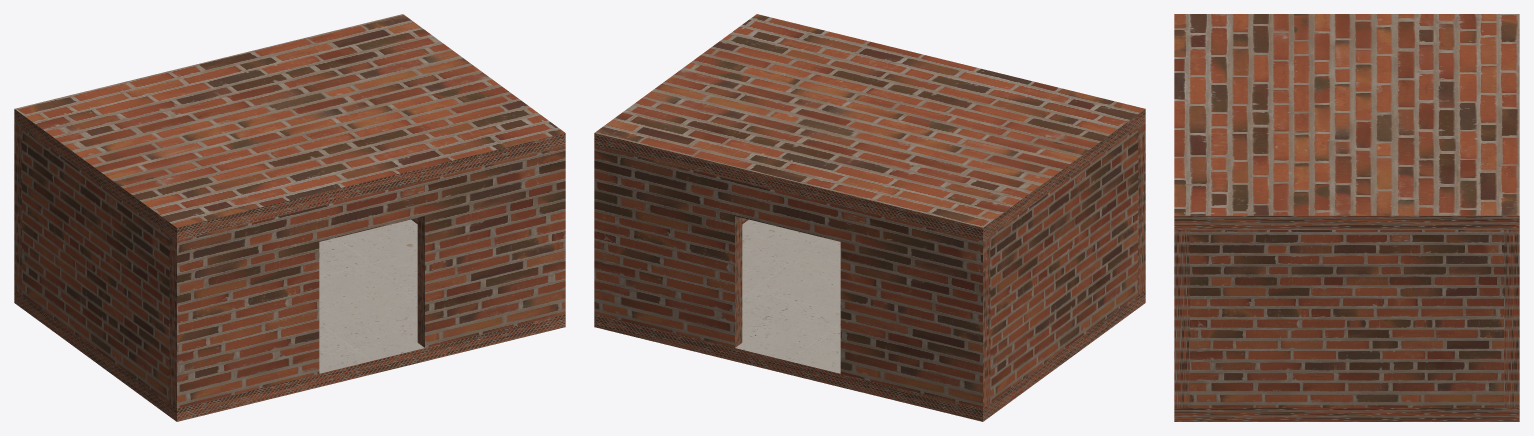
The model's file is SalaDeExpo.obj.
3 views of the same model, side by side, from view 1: azimuth 30°, elevation 25°; view 2: azimuth 150°, elevation 25°; view 3: azimuth 270°, elevation 25° (orthographic). The views are drawn at different scales.
Visible parts, largest first — view 1: ExposicionPared; view 2: ExposicionPared; view 3: ExposicionPared.
Part boxes in pixels (box(x1,y1,x2,y2)): ExposicionPared: box(14, 14, 565, 421); ExposicionPared: box(594, 14, 1145, 421); ExposicionPared: box(1174, 14, 1519, 421).
Size of the model in its own units: 6.08 by 2.9 by 4.4.
2 materials, 2 textured.
